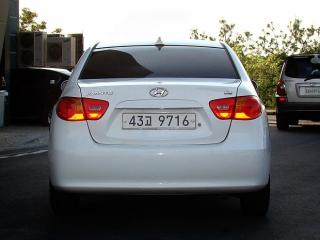1: (174, 115, 181, 127)
3: (136, 115, 145, 127)
4: (129, 115, 137, 127)
6: (182, 114, 190, 127)
7: (166, 114, 174, 127)
9: (157, 115, 166, 127)
고: (144, 115, 153, 127)
